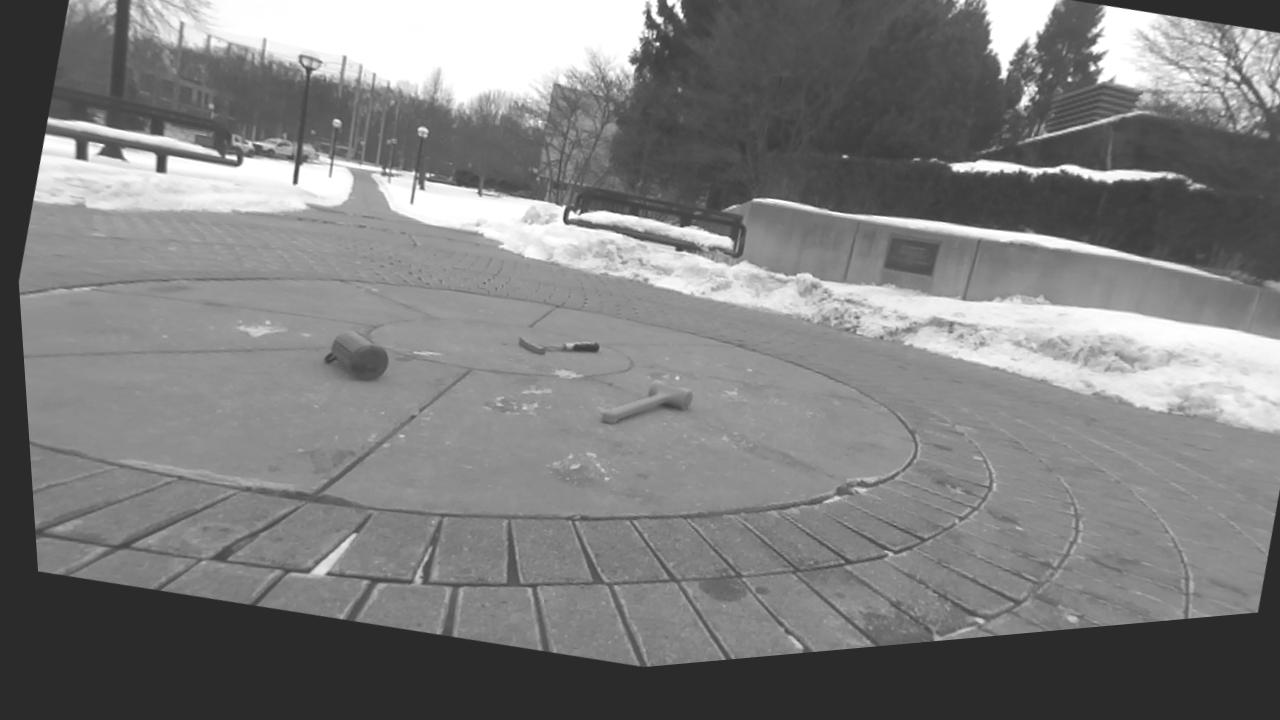bottle: (325, 332, 386, 380)
mallet: (602, 380, 693, 423)
pick: (519, 337, 600, 354)
